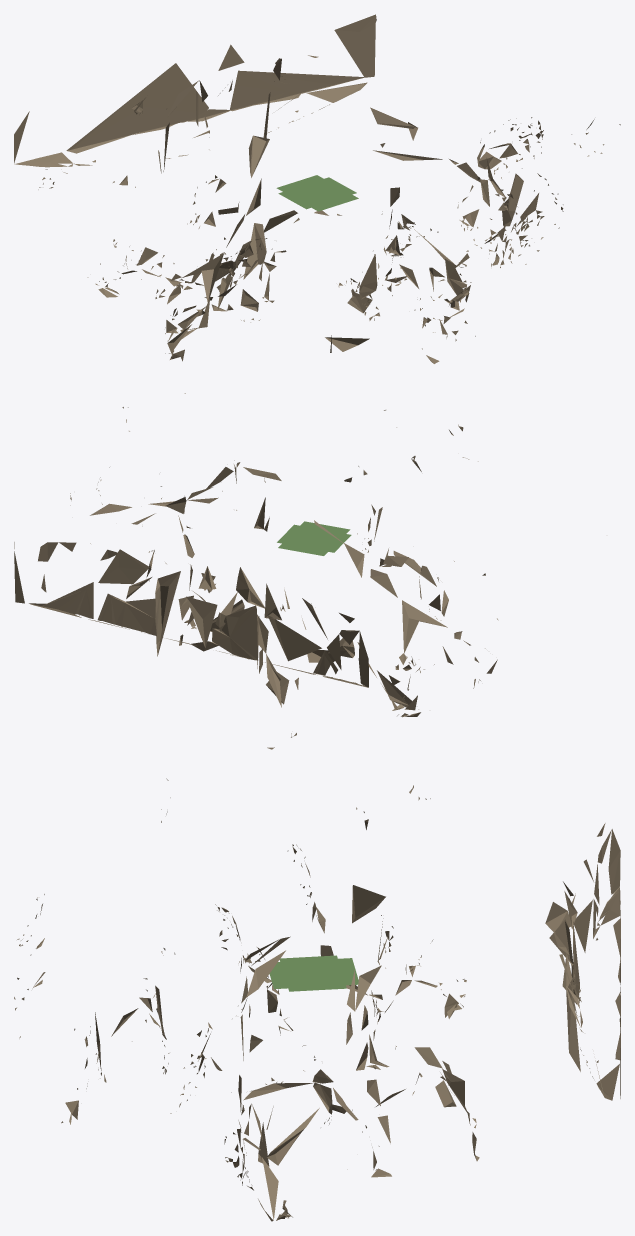
File: stump_ancient_a.glb
The picture shows the model from 3 angles, top to bottom: view 1: azimuth 30°, elevation 25°; view 2: azimuth 150°, elevation 25°; view 3: azimuth 270°, elevation 25°; orthographic projection. The views are drawn at different scales.
Parts seen in each view (by area): view 1: wood, leaves; view 2: wood, leaves; view 3: wood, leaves.
Part boxes in pixels (x1,y1,x2,y2): wood: (14,14,620,363); leaves: (276,175,358,211); wood: (14,393,498,749); leaves: (277,521,351,555); wood: (14,778,620,1221); leaves: (269,955,358,991).
Size of the model in its own units: 3.8 by 1.56 by 3.15.
